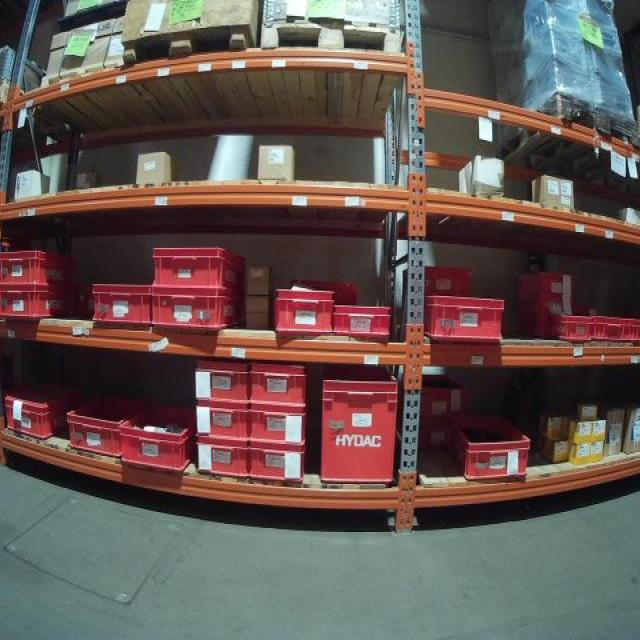pallet: (499, 96, 640, 177), (262, 22, 404, 51), (39, 53, 124, 93)
small_load_carrier: (318, 366, 402, 490), (117, 391, 197, 476), (442, 413, 531, 482), (141, 234, 247, 291), (514, 268, 582, 344), (64, 389, 144, 453), (147, 291, 246, 336), (421, 293, 506, 344), (272, 287, 335, 344), (0, 243, 82, 285), (559, 306, 639, 348), (86, 276, 148, 328), (2, 388, 63, 440), (1, 286, 78, 327), (247, 363, 313, 405), (331, 302, 399, 341), (248, 403, 308, 446), (191, 438, 251, 481), (194, 360, 250, 404), (420, 372, 474, 416), (249, 445, 309, 482), (192, 404, 250, 438), (419, 264, 480, 296)
